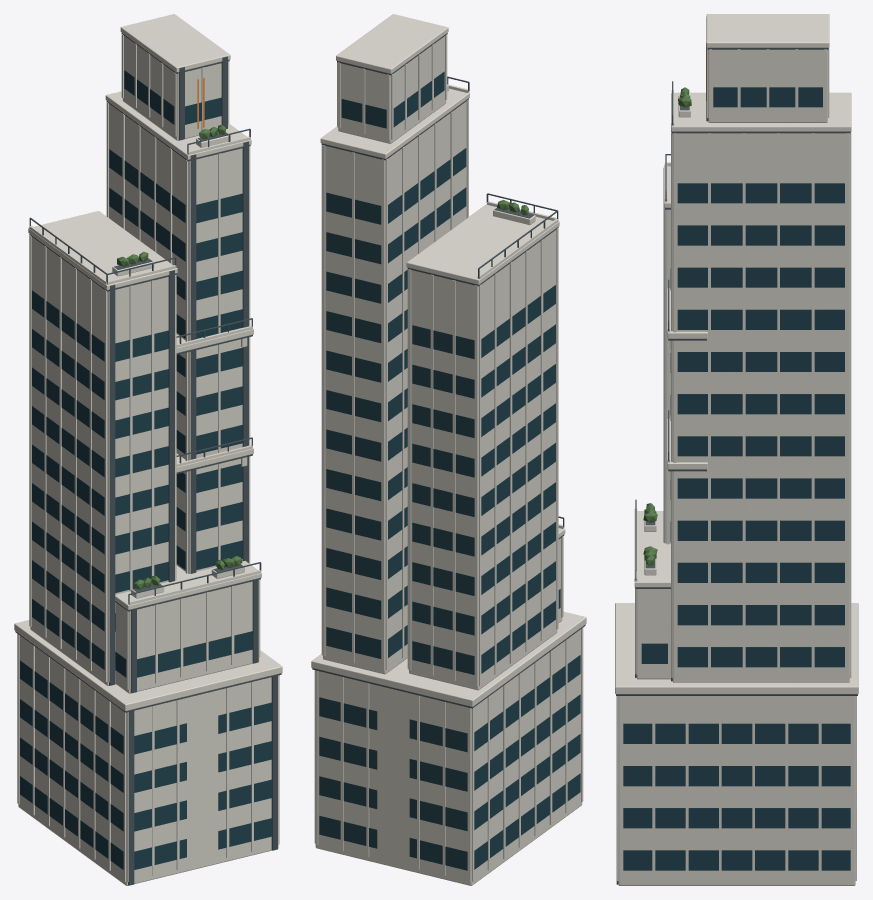
File: CityCornerDistrictTower.fbx
3 views of the same model, side by side, from view 1: azimuth 30°, elevation 25°; view 2: azimuth 150°, elevation 25°; view 3: azimuth 270°, elevation 25° (orthographic). The views are drawn at different scales.
Visible parts, largest first — view 1: CityCornerDistrictTower_SC_Concrete, CityCornerDistrictTower_SC_Glass, CityCornerDistrictTower_SC_Metal, CityCornerDistrictTower_SC_Foliage; view 2: CityCornerDistrictTower_SC_Concrete, CityCornerDistrictTower_SC_Glass, CityCornerDistrictTower_SC_Metal; view 3: CityCornerDistrictTower_SC_Concrete, CityCornerDistrictTower_SC_Glass, CityCornerDistrictTower_SC_Metal, CityCornerDistrictTower_SC_Foliage.
Part boxes in pixels (x1,y1,x2,y2): CityCornerDistrictTower_SC_Concrete: [14, 14, 282, 885]; CityCornerDistrictTower_SC_Glass: [20, 70, 271, 869]; CityCornerDistrictTower_SC_Metal: [15, 33, 281, 885]; CityCornerDistrictTower_SC_Foliage: [117, 124, 242, 589]; CityCornerDistrictTower_SC_Concrete: [311, 14, 586, 885]; CityCornerDistrictTower_SC_Glass: [319, 71, 580, 870]; CityCornerDistrictTower_SC_Metal: [312, 33, 585, 708]; CityCornerDistrictTower_SC_Concrete: [615, 14, 858, 885]; CityCornerDistrictTower_SC_Glass: [623, 87, 850, 870]; CityCornerDistrictTower_SC_Metal: [616, 16, 857, 884]; CityCornerDistrictTower_SC_Foliage: [643, 87, 691, 565].
Bounding box in the file's own units: 18 × 83.6 × 22.
